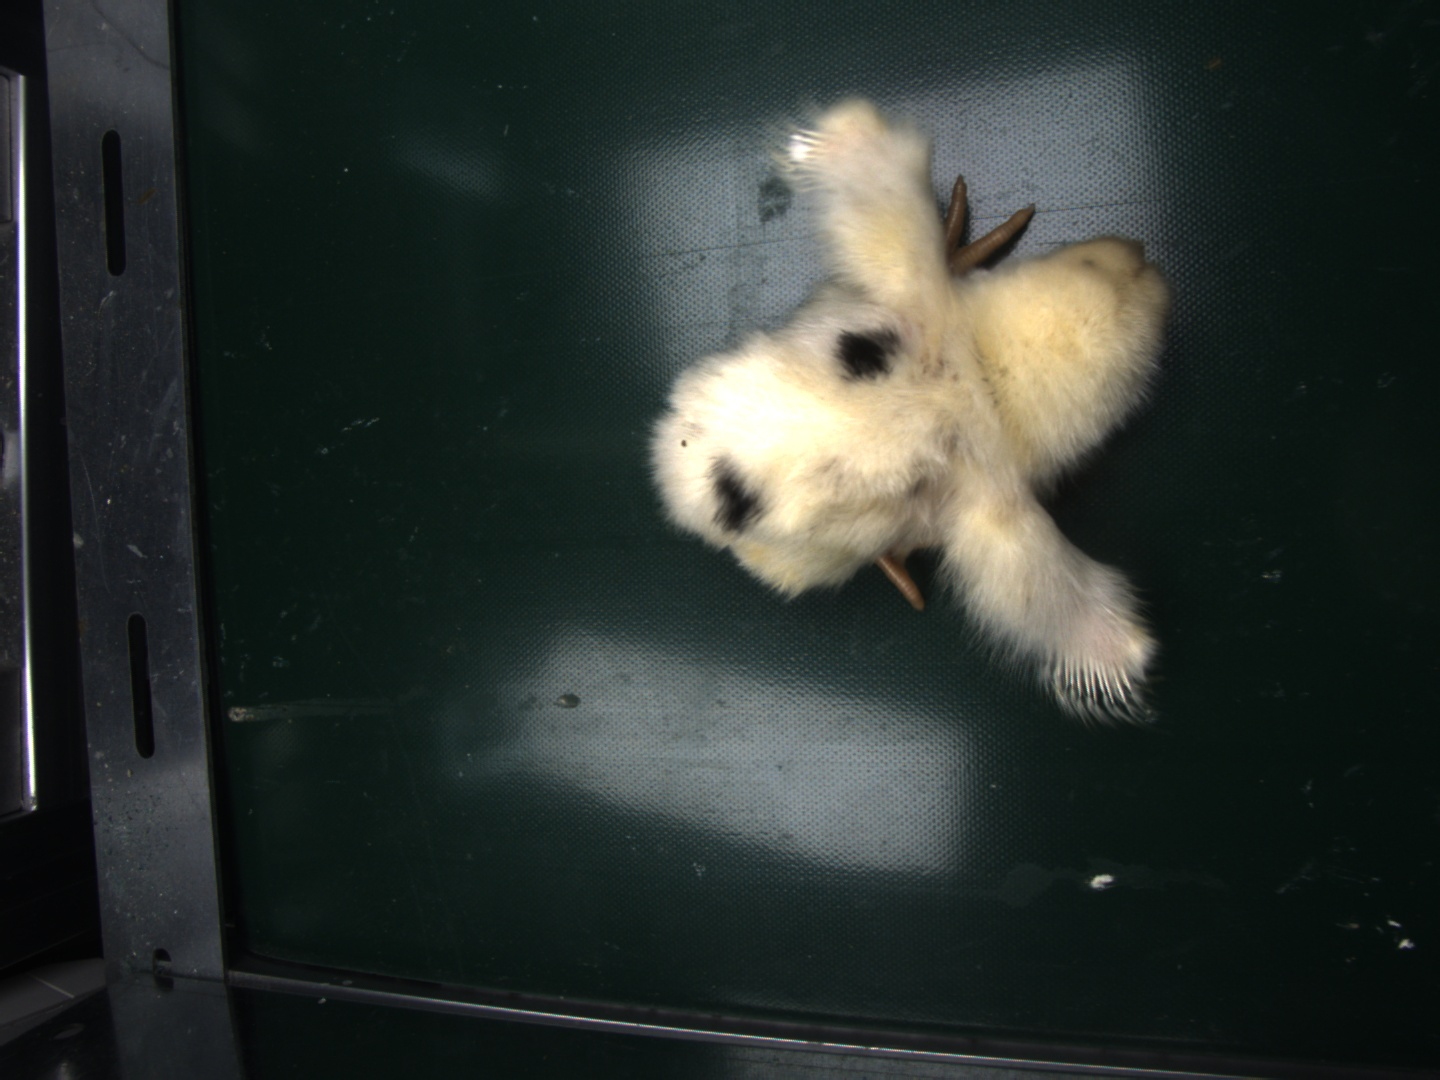male: (1059, 646, 1135, 710)
